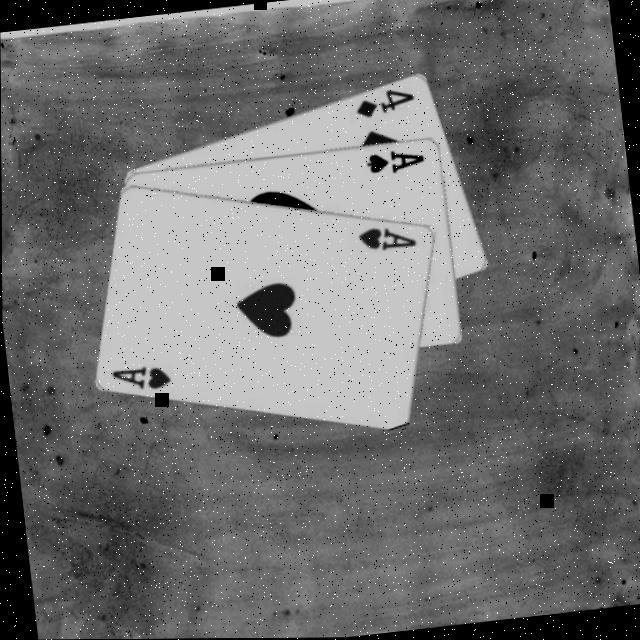4D: (349, 86, 417, 124)
AH: (106, 361, 172, 398), (352, 222, 418, 258)
AS: (360, 146, 426, 180)
